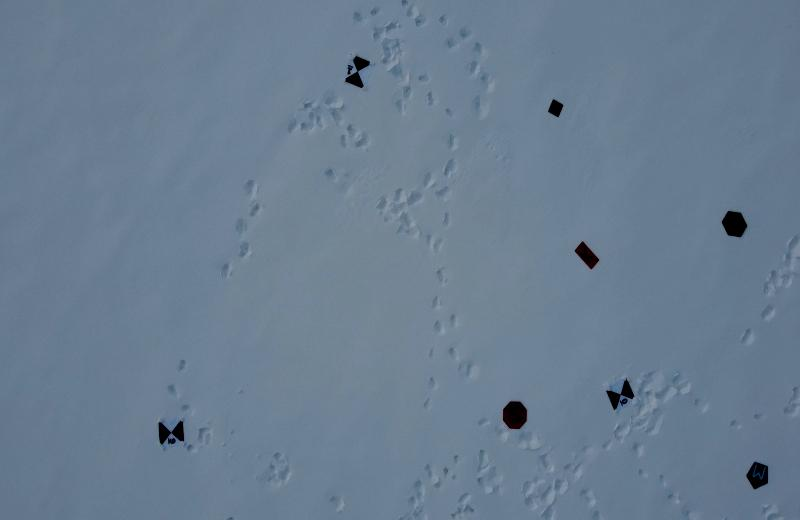Hexagon: (718, 206, 748, 244)
Octagon: (499, 399, 530, 434)
Pentagon: (744, 458, 770, 492)
Rectangle: (571, 238, 599, 272)
Square: (543, 100, 566, 124)
